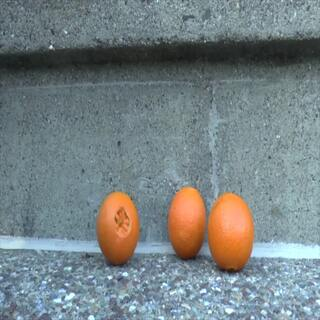orange: (206, 194, 265, 277), (160, 179, 210, 260), (94, 187, 143, 268)
